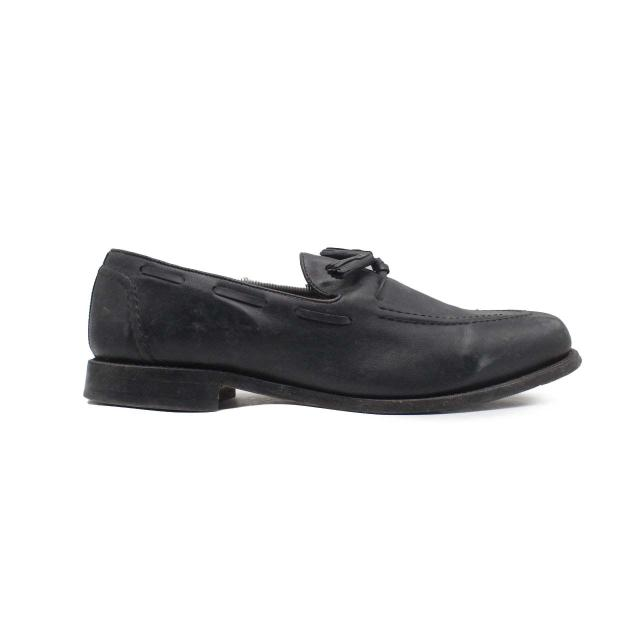heel: (87, 251, 177, 372)
midsole: (81, 353, 583, 416)
uppersole: (166, 251, 572, 395)
